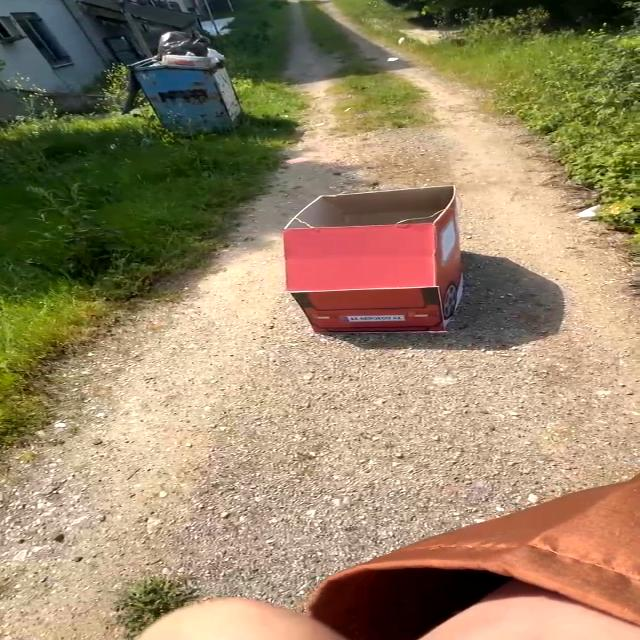red_car: (263, 174, 506, 360)
